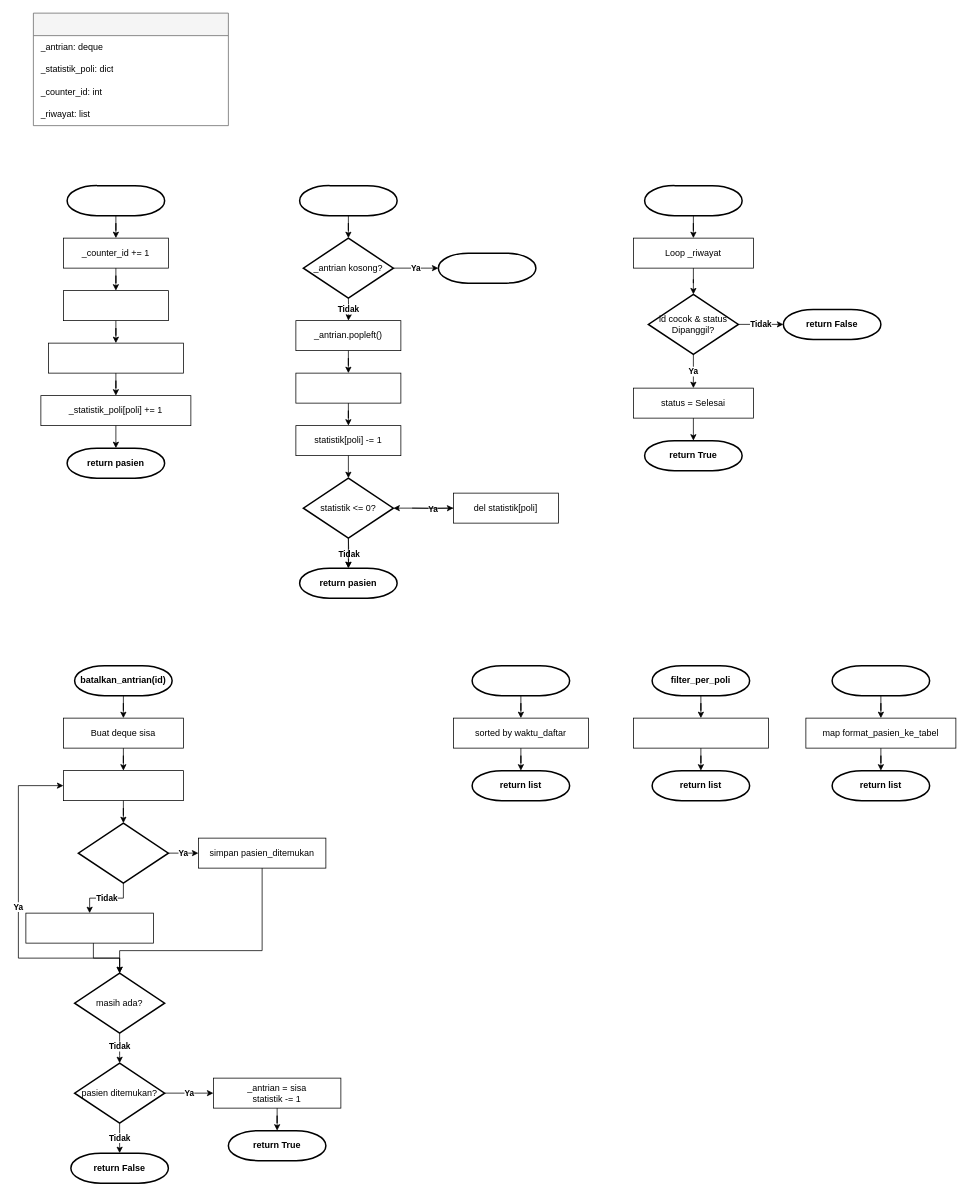
The diagram is 969 pixels wide and 1197 high, and some of its shapes have lost their labels. Each missing label, with the box of its shape:
_antrian.append(pasien): (48, 342, 183, 373)
buat_pasien: (63, 290, 168, 321)
filter poli == poli: (633, 717, 768, 748)
id cocok?: (77, 822, 169, 884)
Loop _antrian: (63, 770, 183, 801)
panggil_berikutnya: (298, 184, 398, 216)
return None: (437, 252, 536, 284)
ringkasan_tabel: (831, 664, 930, 696)
selesaikan_layanan(id): (644, 184, 742, 216)
sisa.append(pasien): (25, 912, 153, 943)
State Global: (33, 12, 228, 126)
status = Dipanggil: (295, 372, 401, 403)
tambah_antrian: (66, 184, 165, 216)
urutkan_antrian: (471, 664, 570, 696)
